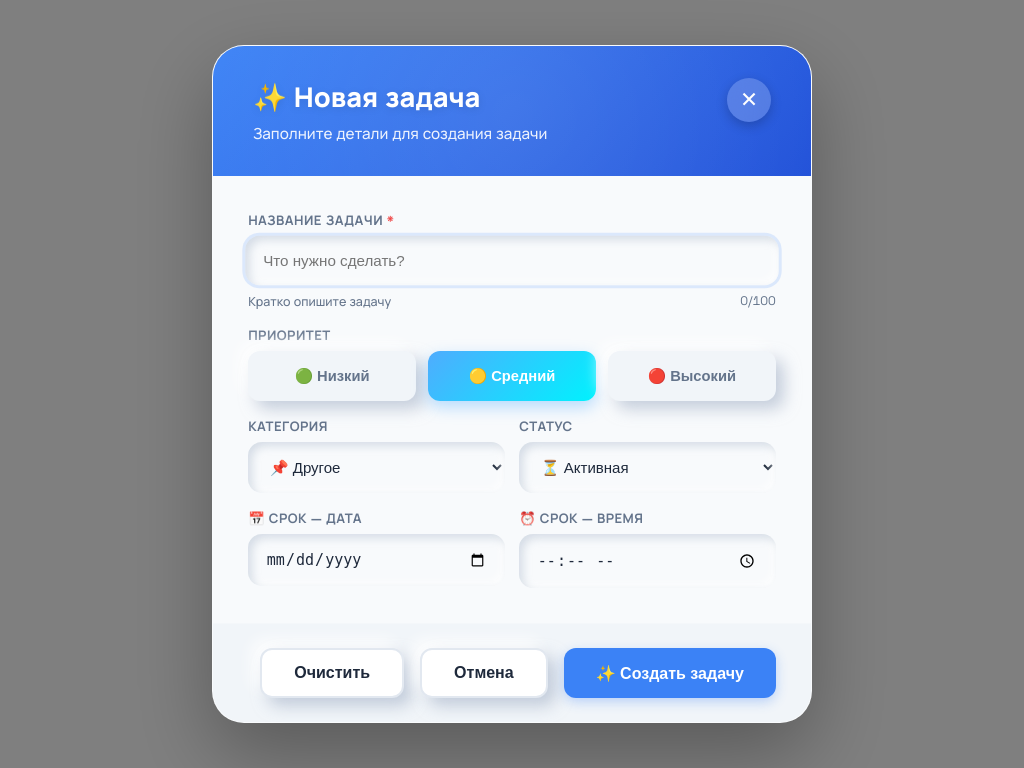
it: AddItemModal › validates uncontrolled schedule fields and resets hybrid form
This screenshot has width=1024, height=768.
Type "Проверить дедлайн" into the field labelled "Название задачи *" at [512, 261], box [246,236,778,286]
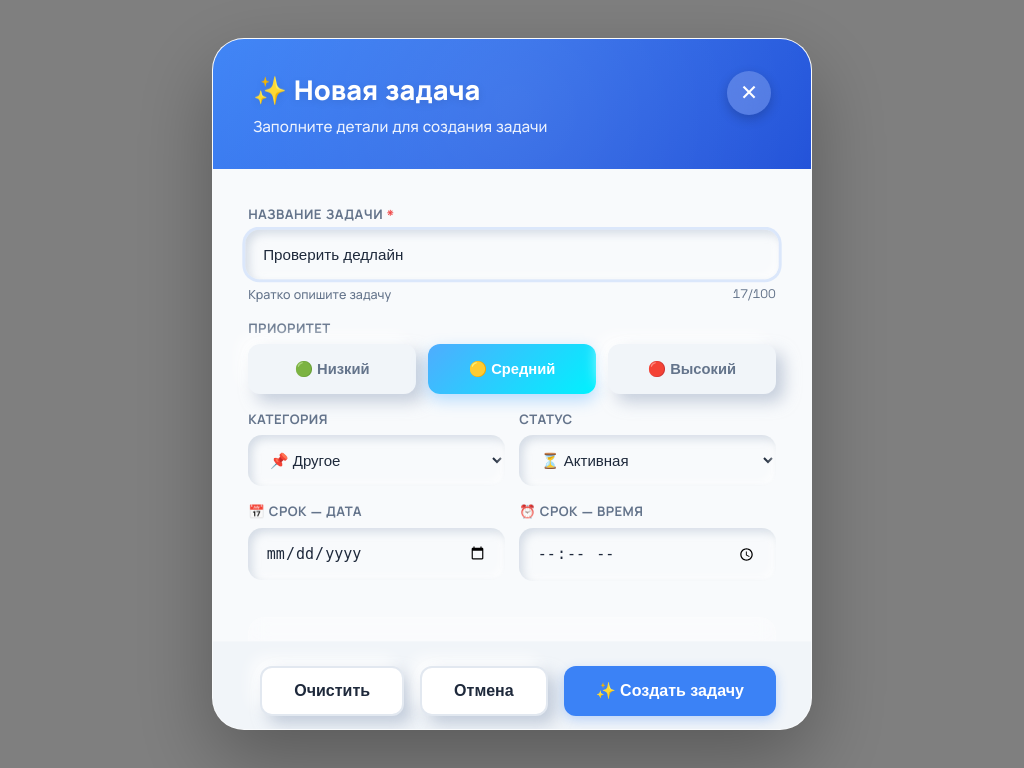
Type "09:30" into the time field labelled "⏰ Срок — время" at [648, 554], box [519,528,776,581]
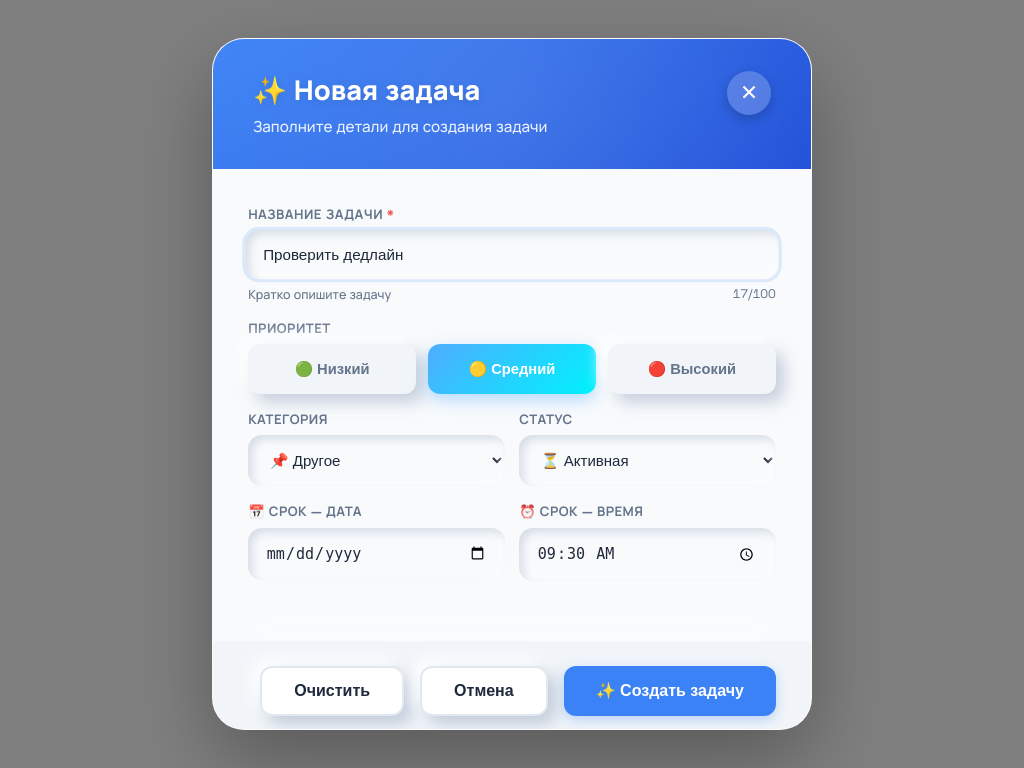
Leave the time field labelled "⏰ Срок — время", box [519,528,776,581]
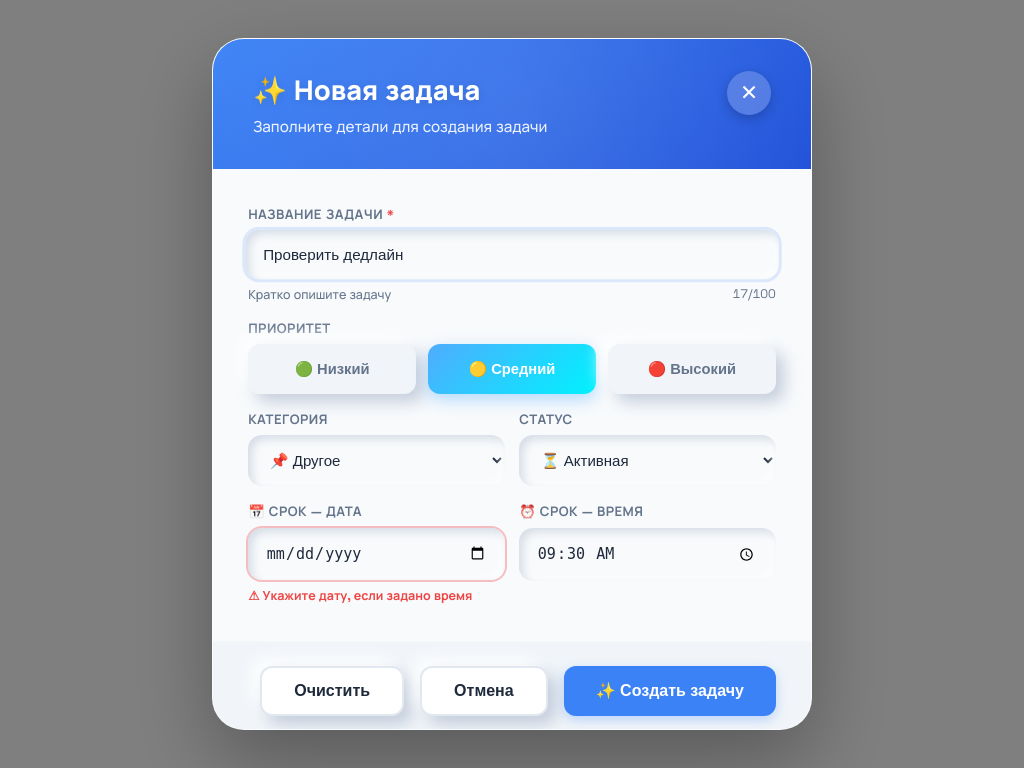
Now the text "⚠ Укажите дату, если задано время" is shown, box [248,587,505,604]
Type "2026-03-30" into the date field labelled "📅 Срок — дата" at [376, 554], box [248,528,505,580]
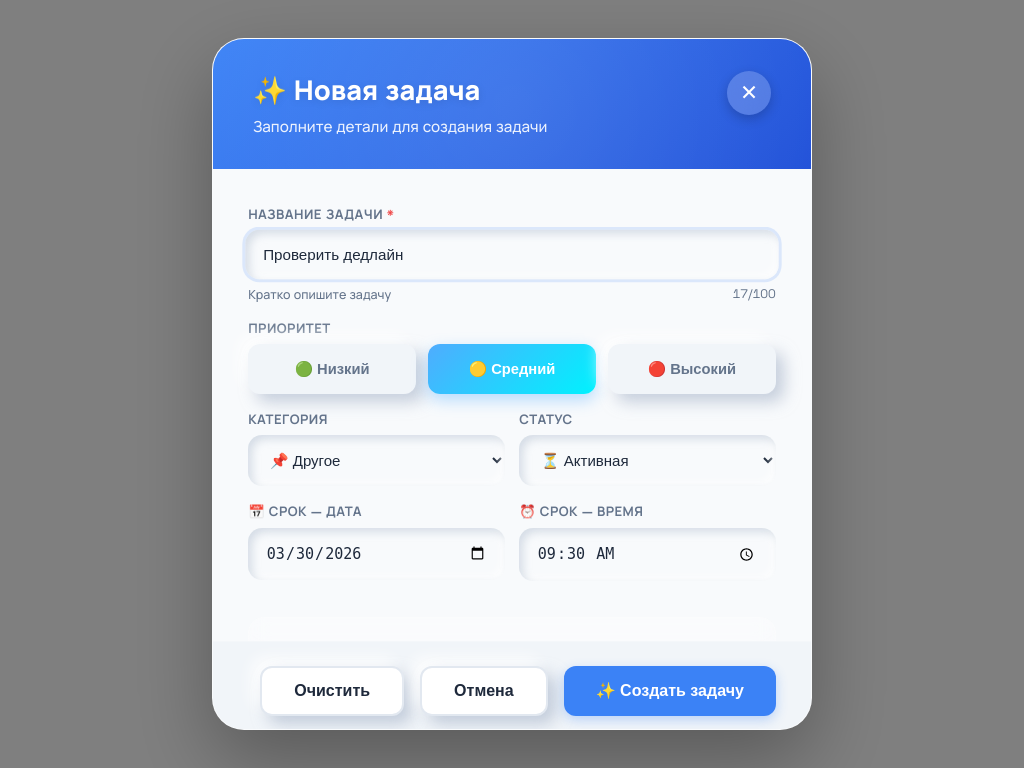
Click the button "Очистить" at [332, 691], box [260,666,404,716]
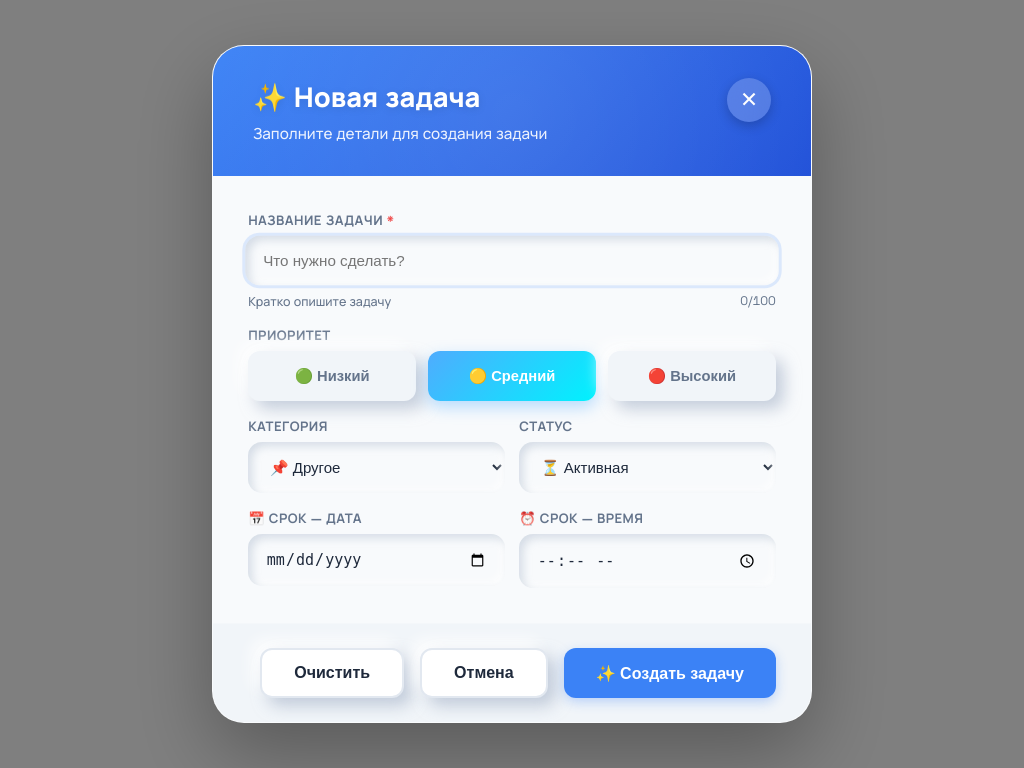
Now the field labelled "Название задачи *" is empty, box [246,236,778,286]
Now the date field labelled "📅 Срок — дата" is empty, box [248,534,505,586]
Now the time field labelled "⏰ Срок — время" is empty, box [519,534,776,588]
